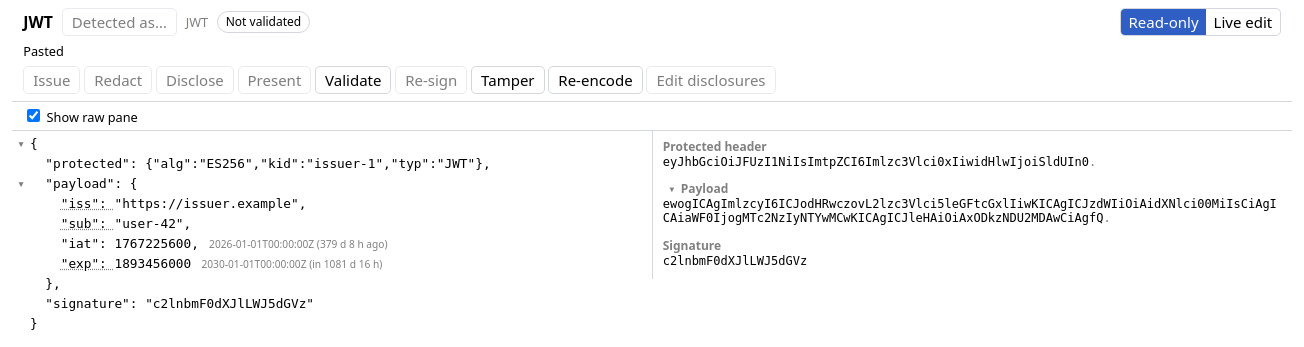
tree sync (JOSE) › collapsing a part collapses its segment
Click the button "▾" next to "\"payload\": {" at {"x": 21, "y": 184}, box [12,174,30,194]
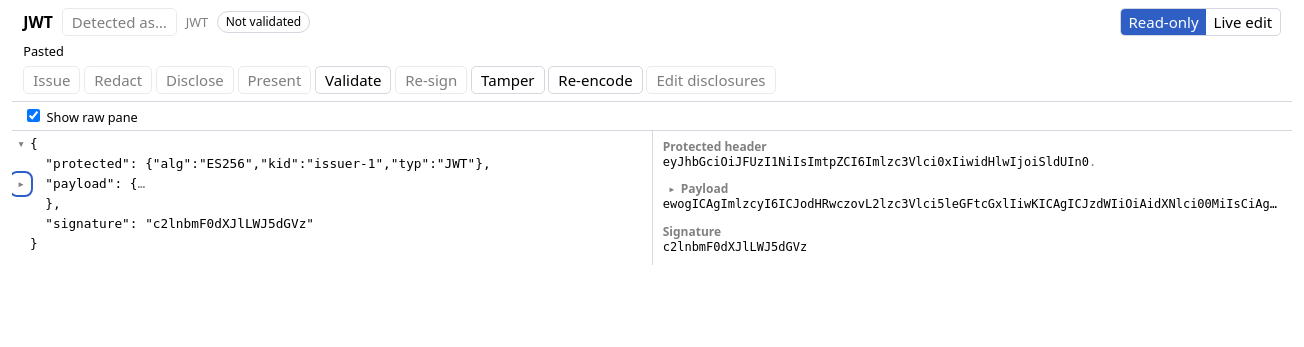
Expected: the text "user-42" is gone
